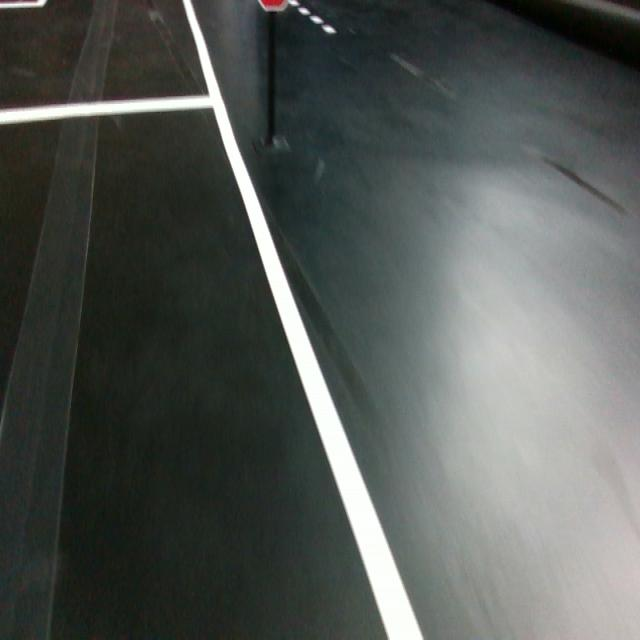stop-sign: (256, 0, 288, 12)
